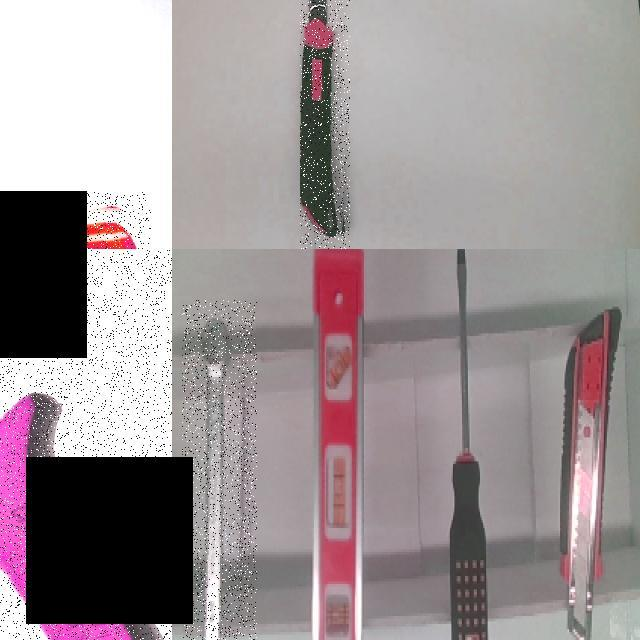estilete: (561, 308, 620, 639), (300, 0, 344, 237)
